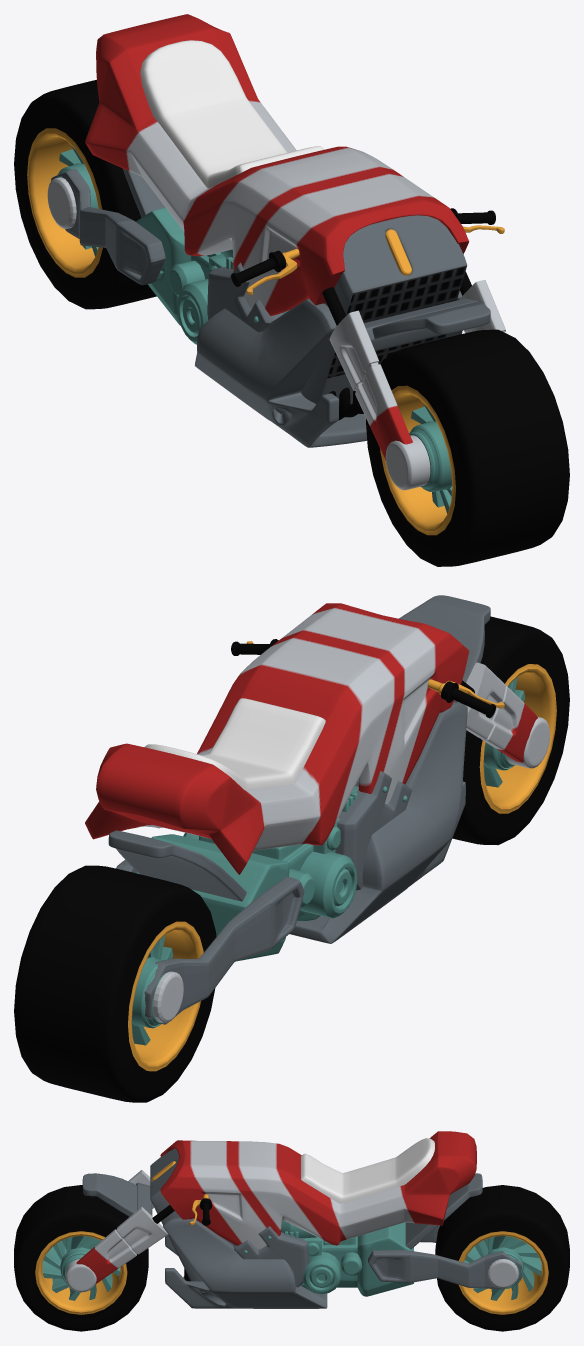
File: Sci_FI Bike.fbx
3 views of the same model, one above another, from view 1: azimuth 30°, elevation 25°; view 2: azimuth 150°, elevation 25°; view 3: azimuth 270°, elevation 25° (orthographic). The views are drawn at different scales.
Visible parts, largest first — view 1: polySurface16, polySurface1, polySurface5, polySurface56, polySurface57; view 2: polySurface16, polySurface5, polySurface1, polySurface56, polySurface57; view 3: polySurface16, polySurface5, polySurface1, polySurface56, polySurface57.
Part boxes in pixels (left/top/right/bottom): polySurface16: left=85, top=14, right=469, bottom=447; polySurface1: left=366, top=329, right=569, bottom=566; polySurface5: left=14, top=79, right=156, bottom=309; polySurface56: left=231, top=208, right=507, bottom=490; polySurface57: left=47, top=168, right=165, bottom=285; polySurface16: left=85, top=603, right=469, bottom=961; polySurface5: left=14, top=865, right=216, bottom=1102; polySurface1: left=452, top=616, right=569, bottom=845; polySurface56: left=231, top=595, right=549, bottom=768; polySurface57: left=116, top=859, right=304, bottom=1024; polySurface16: left=150, top=1131, right=482, bottom=1308; polySurface5: left=435, top=1185, right=569, bottom=1331; polySurface1: left=14, top=1185, right=148, bottom=1331; polySurface56: left=65, top=1170, right=212, bottom=1292; polySurface57: left=368, top=1225, right=521, bottom=1289.
Bounding box in the file's own units: 78.53 × 84.63 × 243.
